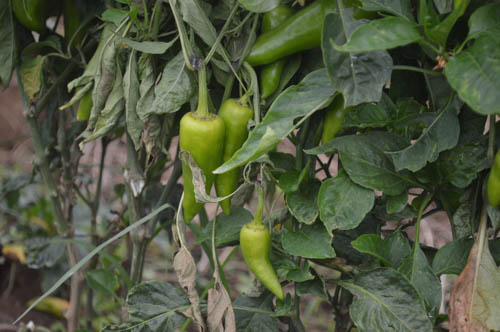ChiliPepper: (246, 7, 374, 66), (177, 114, 224, 220), (216, 100, 254, 217), (239, 223, 283, 301), (259, 5, 294, 100), (323, 93, 365, 149)
